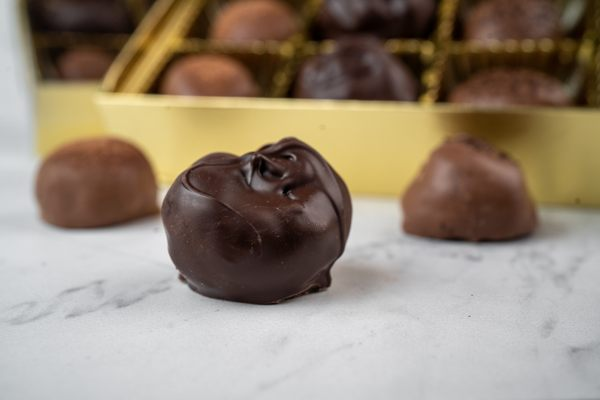steak: (160, 136, 353, 304), (33, 133, 160, 228)
